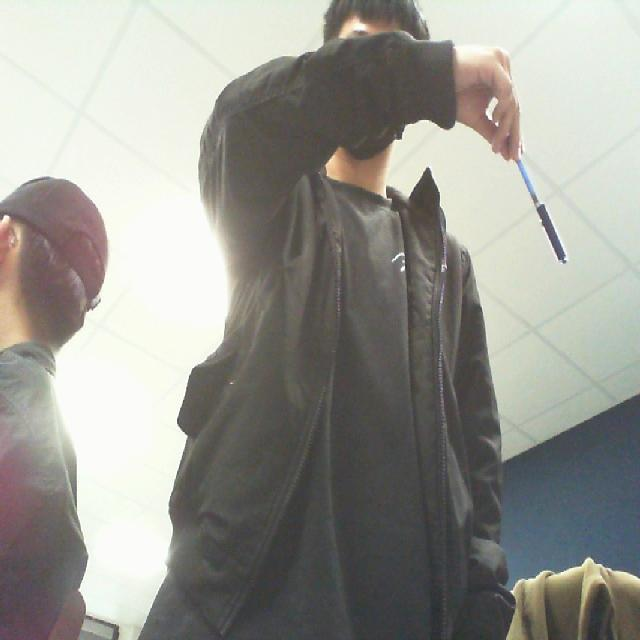Pen: (500, 150, 580, 284)
